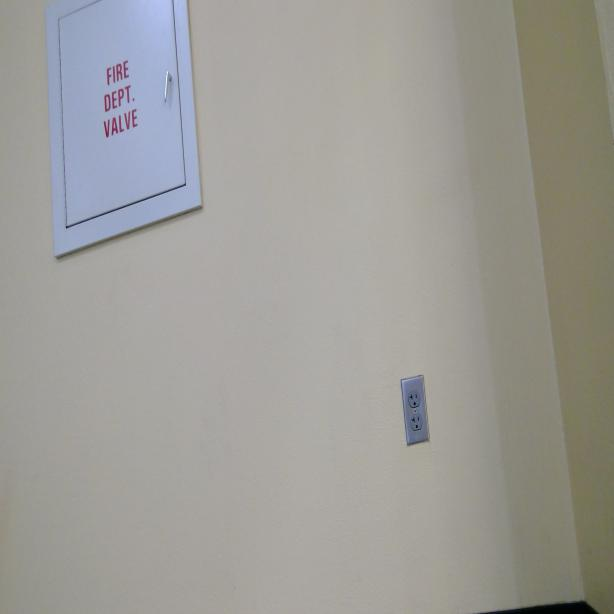typeb: (407, 388, 419, 408), (411, 413, 423, 430)
